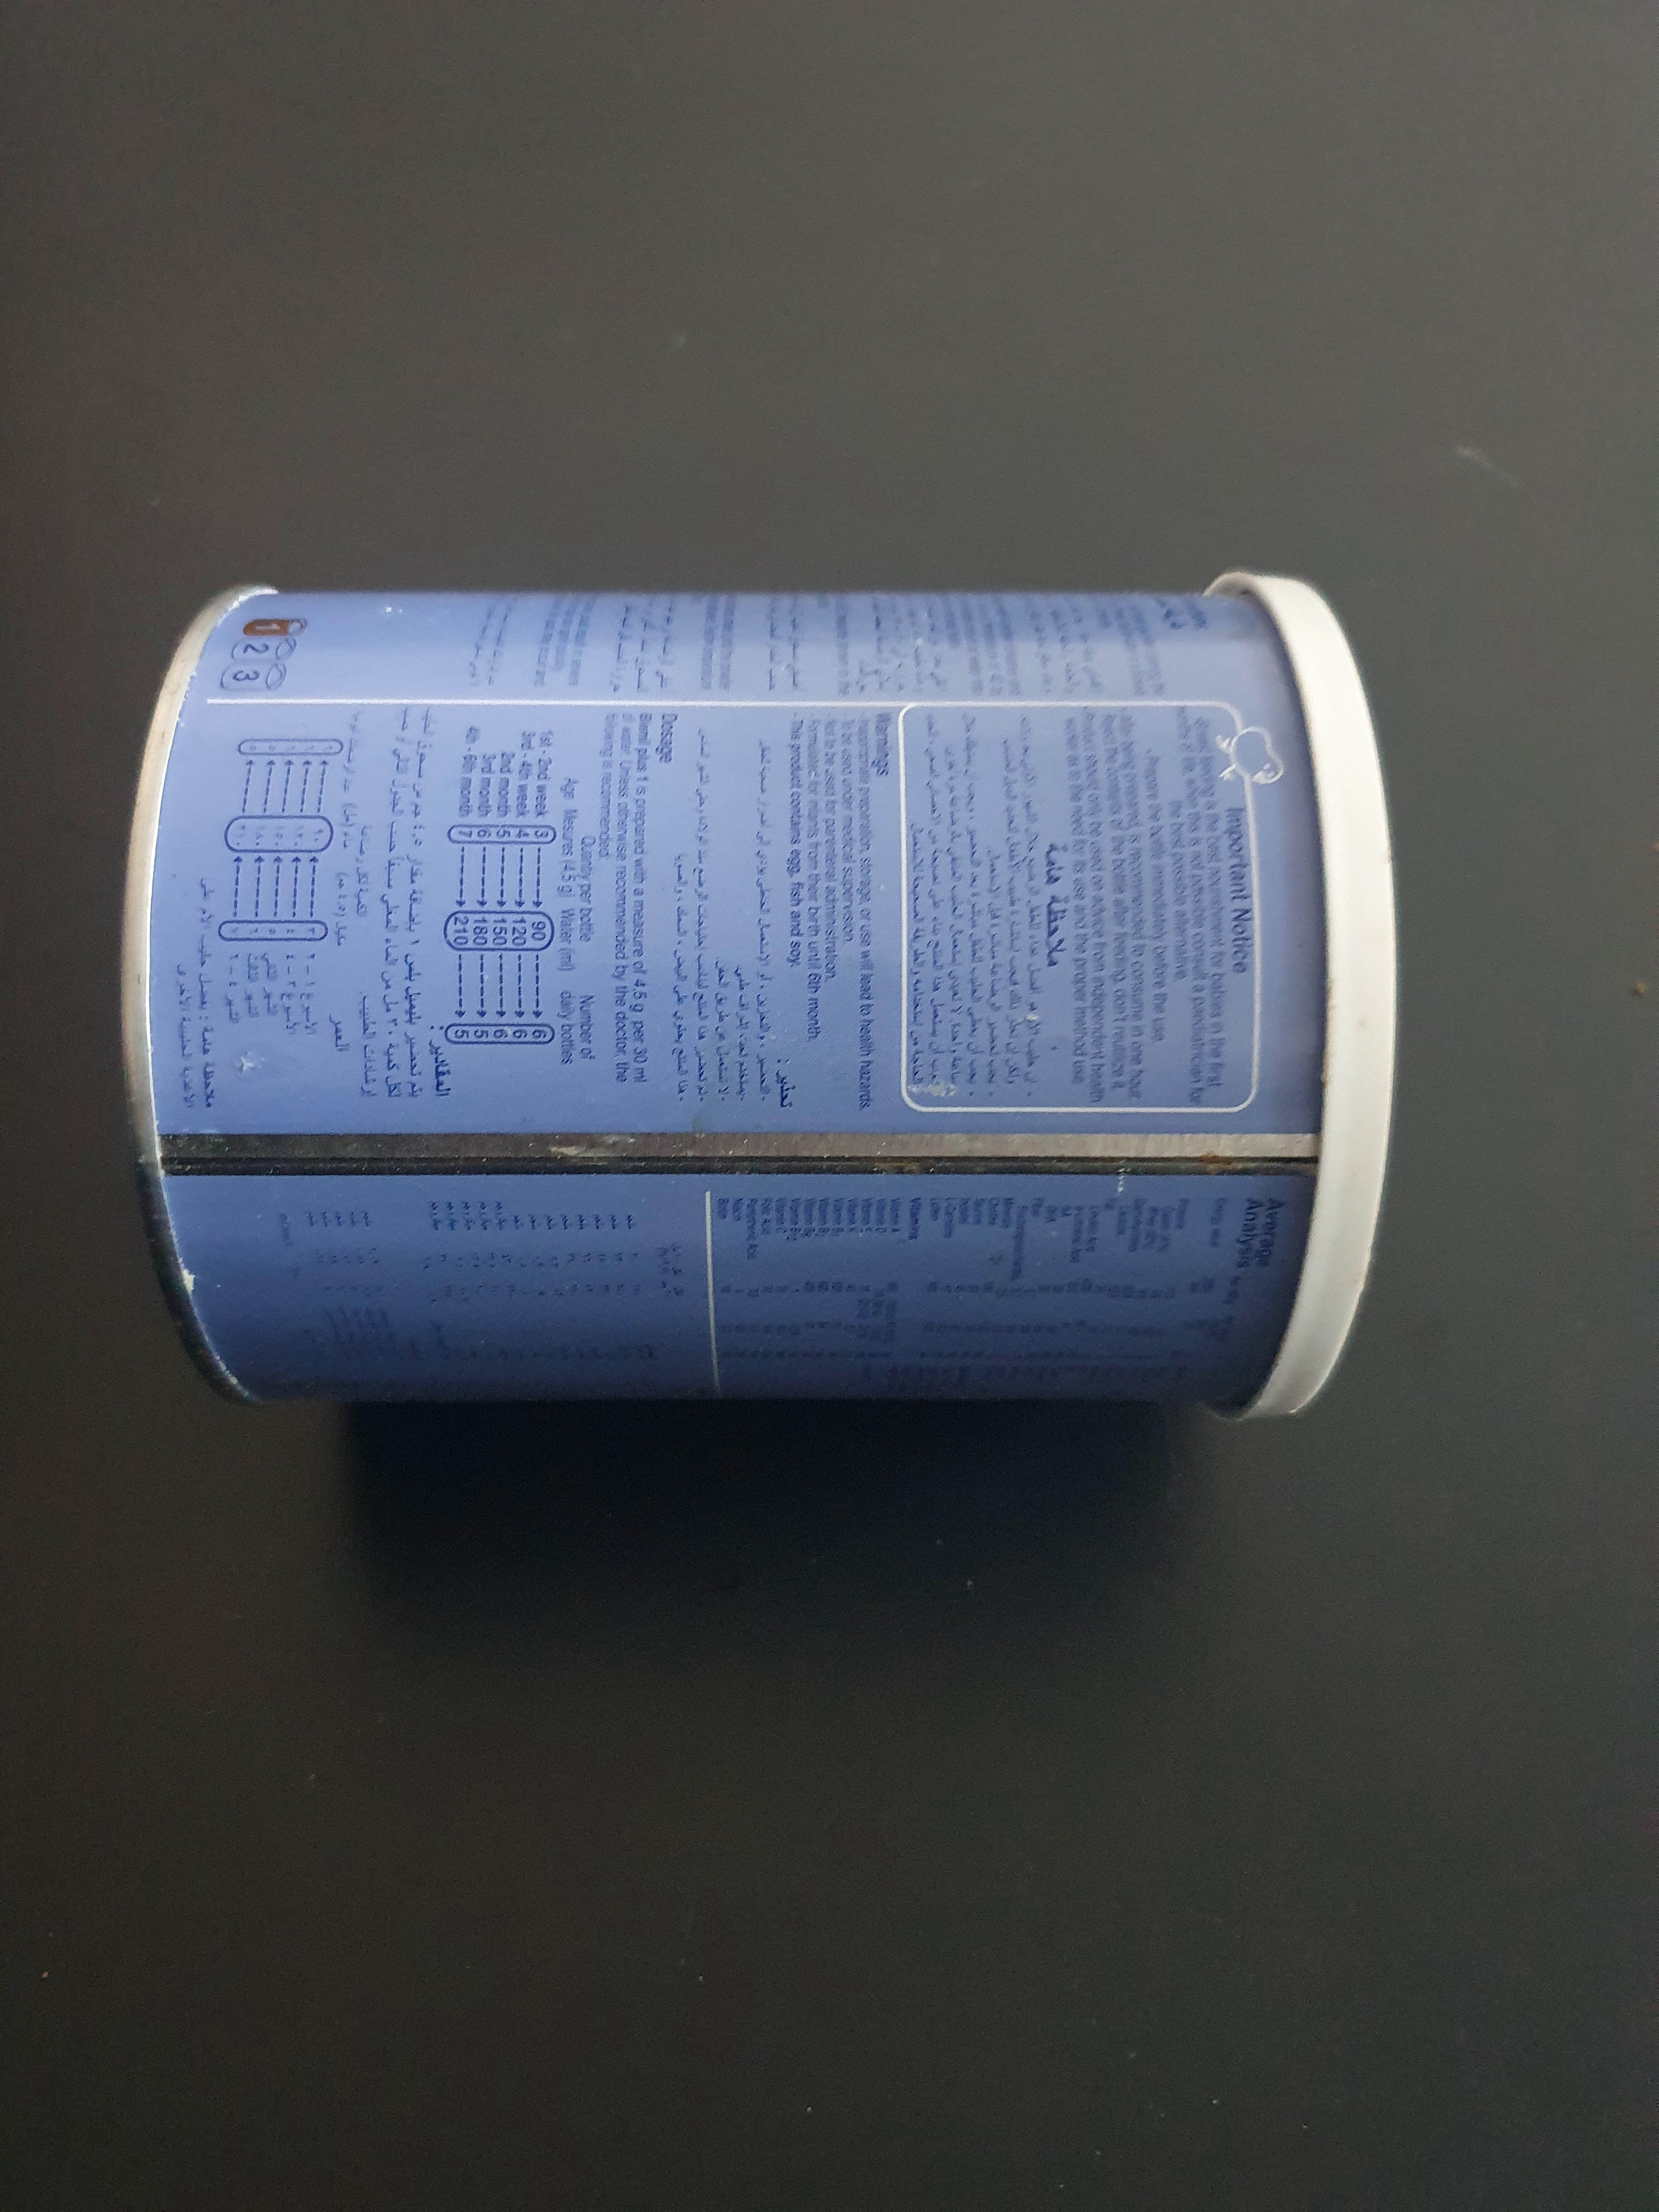metal: (68, 517, 1459, 1474)
